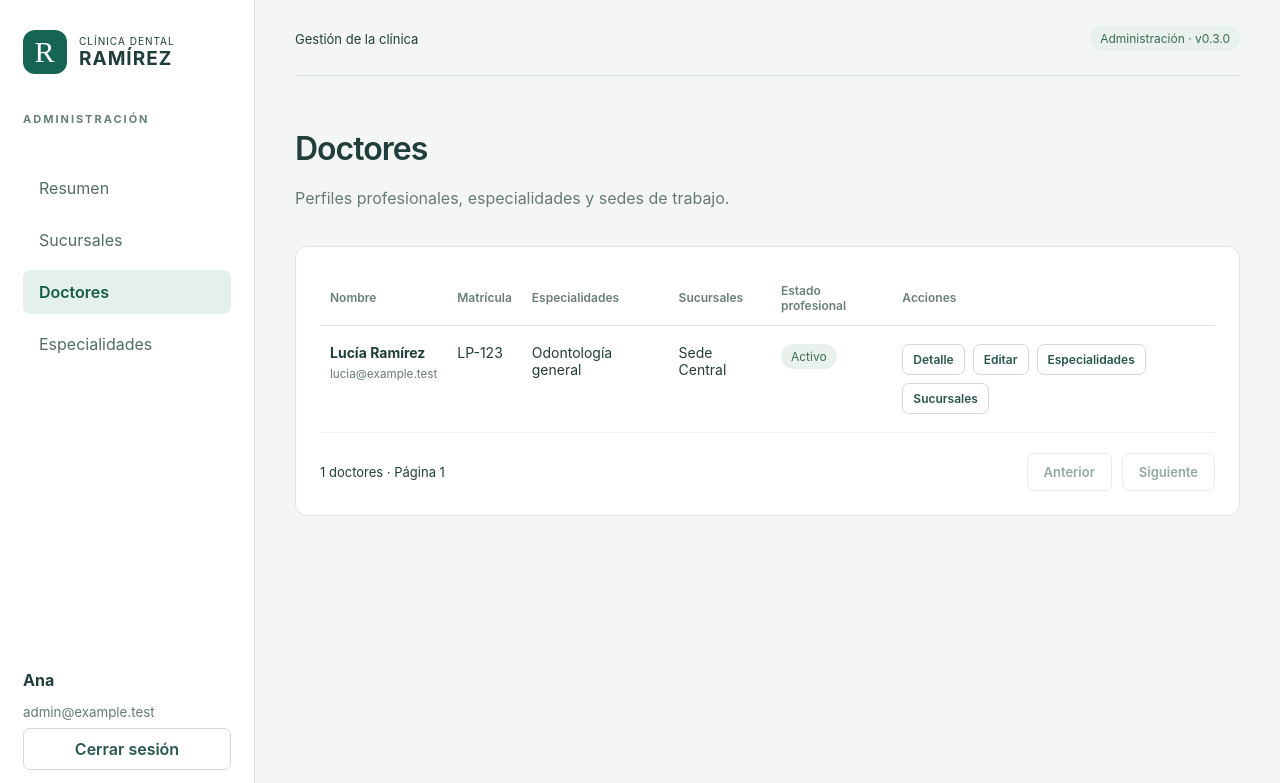
Test case: muestra detalle del doctor sin consultar horarios si falta schedules.view
The width and height of the screenshot is (1280, 783).
Click the button "Detalle": point(933, 360) [902, 344, 965, 375]
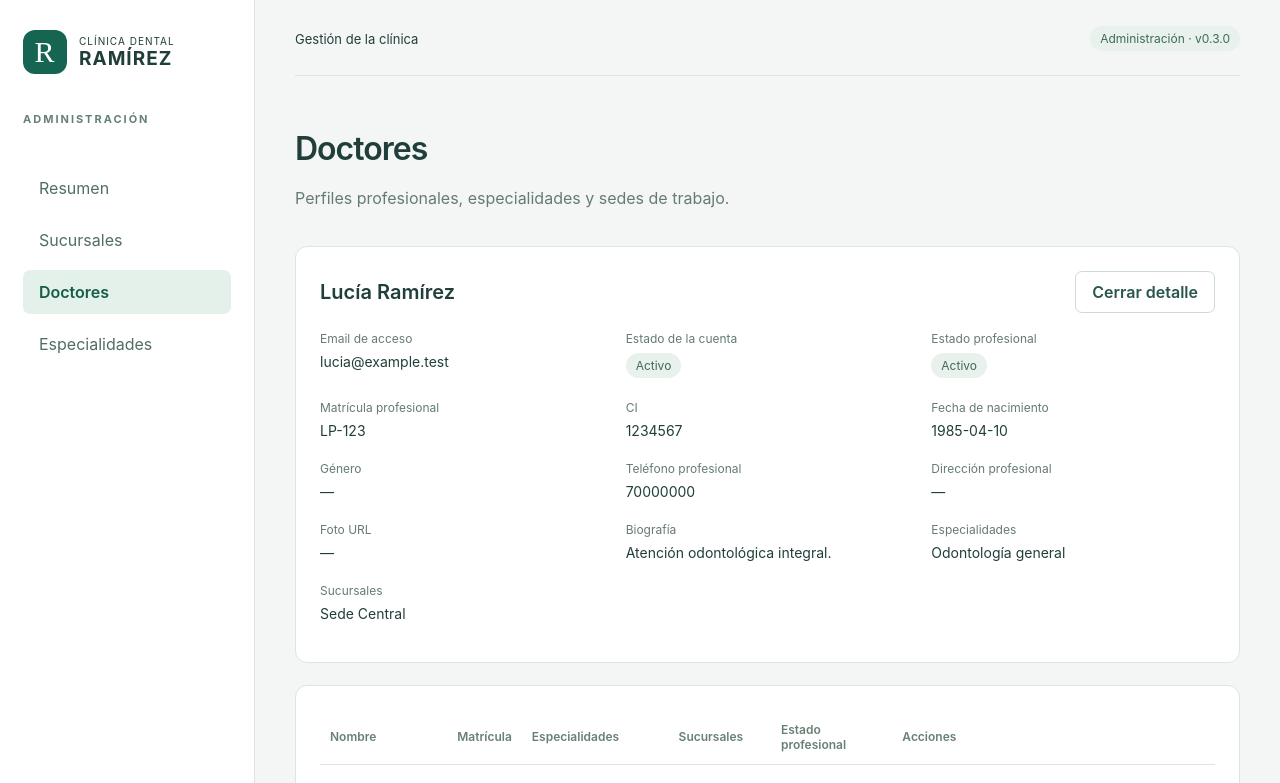
Expected: the heading "Lucía Ramírez" is shown, [320, 280, 455, 304]
Expected: the text "Atención odontológica integral." is shown, [626, 544, 832, 561]
Expected: the text "Estado de la cuenta" is shown, [626, 331, 737, 346]
